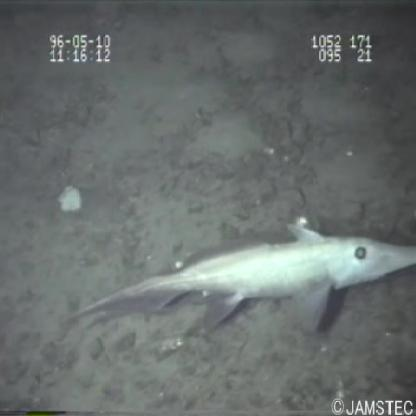Bio: (61, 211, 416, 342)
